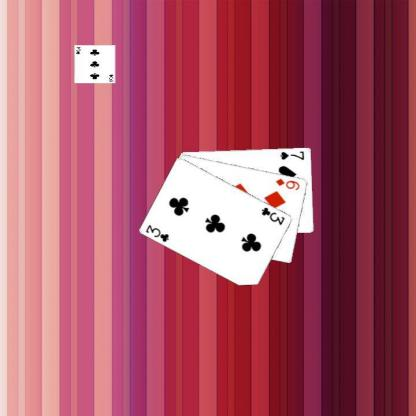3C: (259, 204, 286, 226), (144, 222, 170, 243)
6D: (273, 176, 301, 191)
7S: (278, 148, 305, 160)
